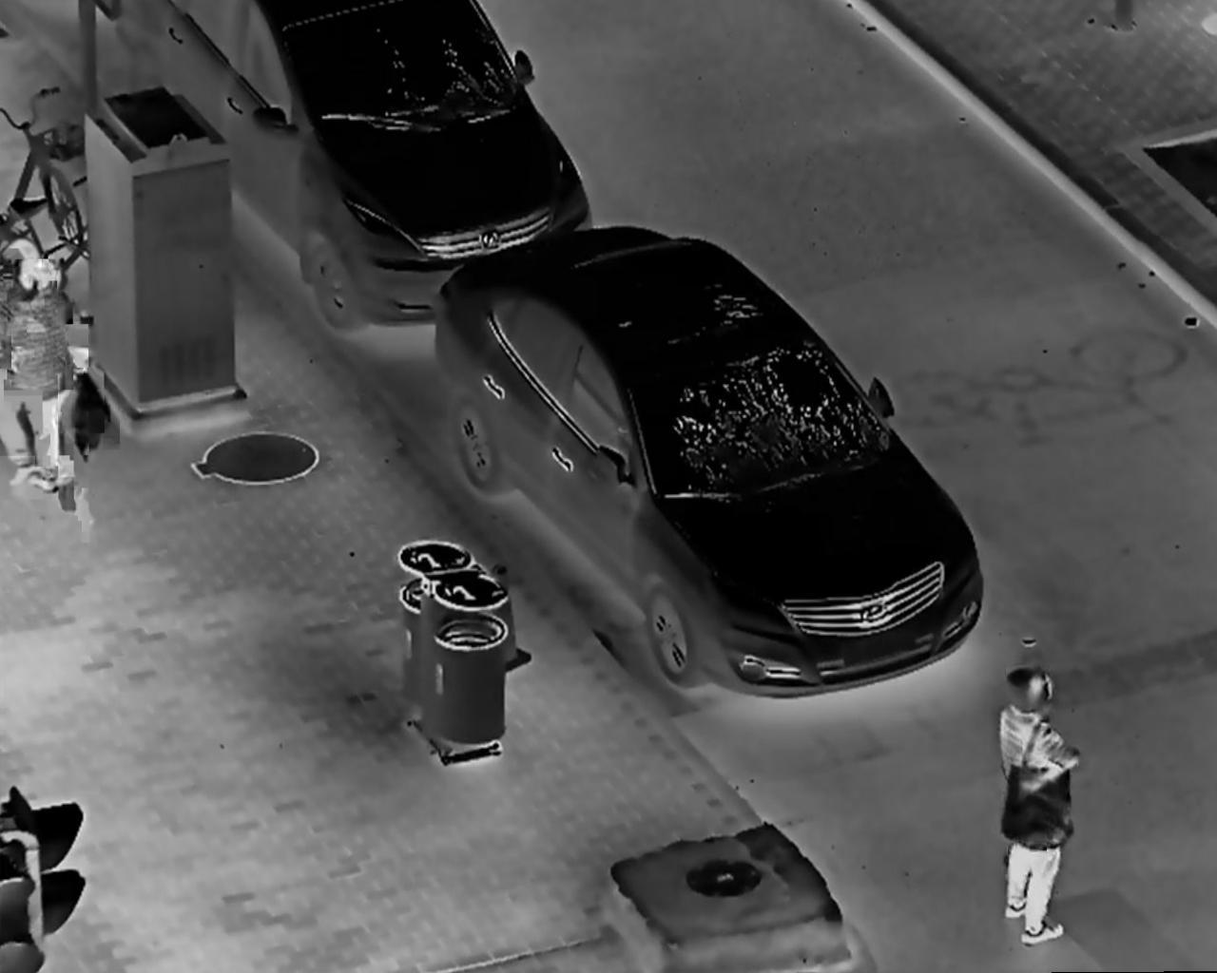person: (994, 661, 1092, 950)
